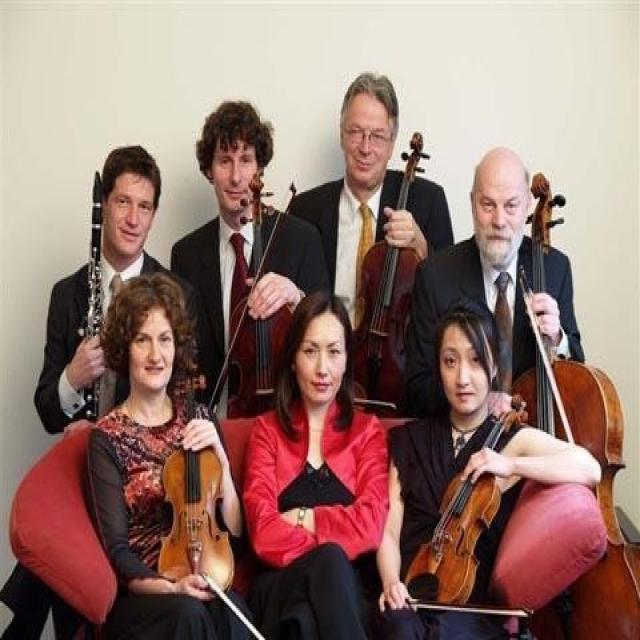cello: (508, 173, 638, 638), (155, 345, 234, 597)
clarinet: (82, 170, 105, 428)
violin: (342, 129, 435, 406), (407, 394, 527, 602), (228, 168, 296, 416)
